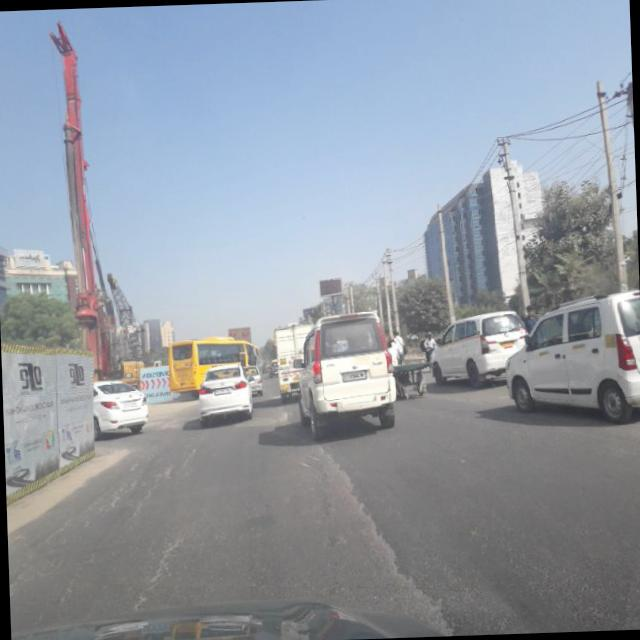crack: (22, 454, 132, 599), (128, 438, 194, 565), (130, 521, 198, 614)
